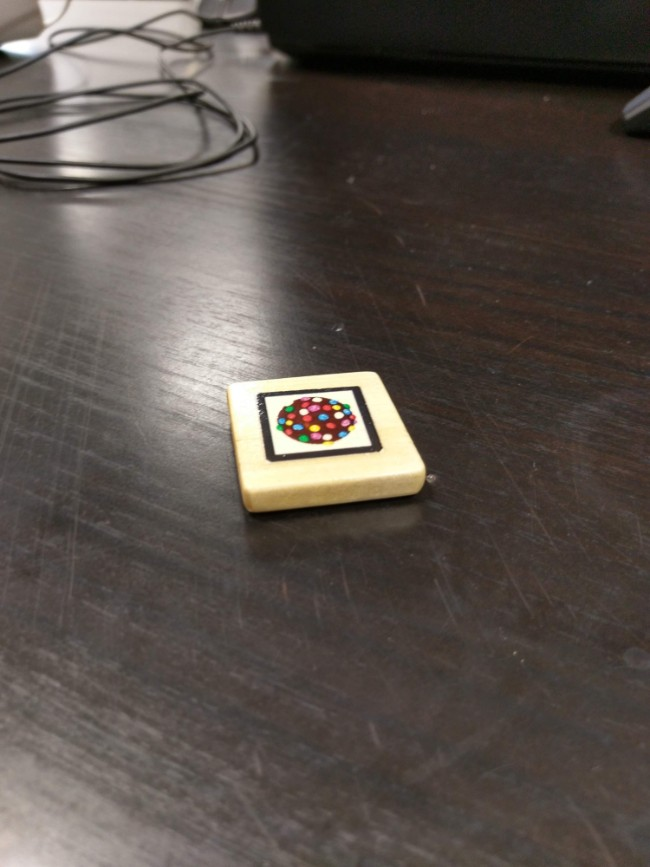cookie: (258, 387, 380, 458)
